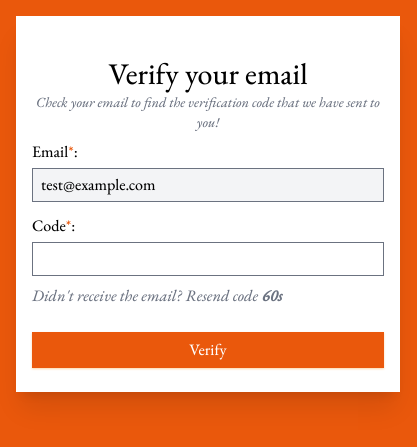
it: VerifyEmail › should show validation error if code is empty
The image size is (417, 447).
Click the button "Verify" at x=208, y=350, box [32,332,384,368]
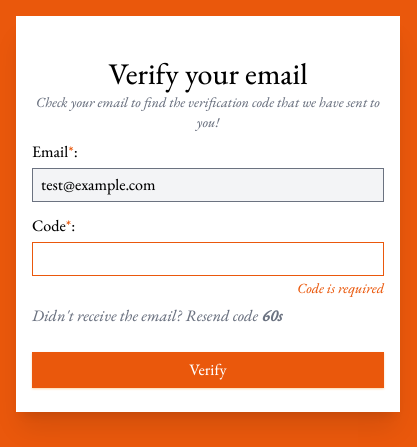
Expected: the text "Code is required" is shown, [297,279,384,297]
